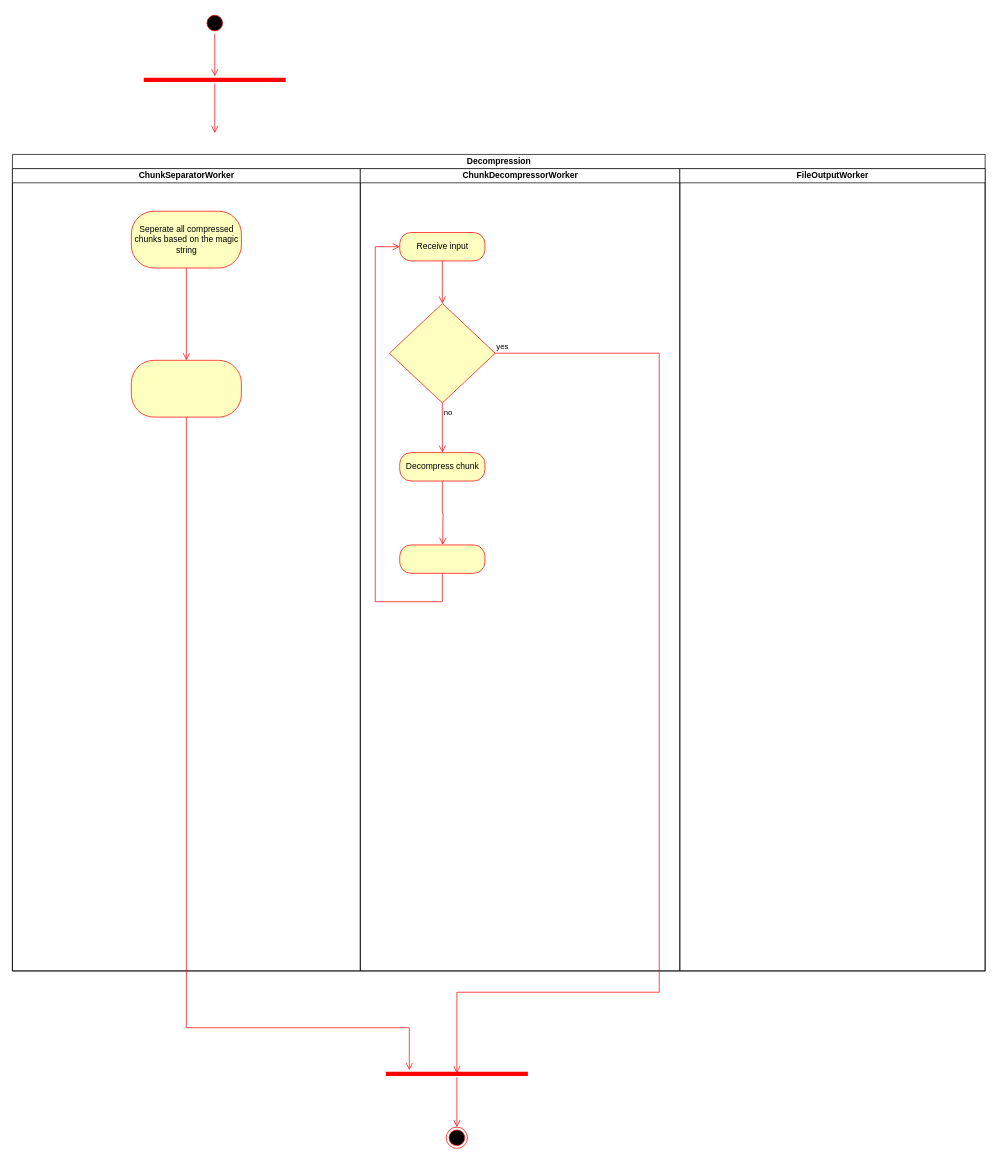
Image size: 998x1161. Some labels were removed from this diagram. Here are the shapes that lost their labels. From the top down, the box of each, then its label:
(389, 303, 495, 403): Is the input empty?
(131, 360, 241, 417): Send chunks to output
(399, 544, 485, 573): Send decompressed chunk to output
